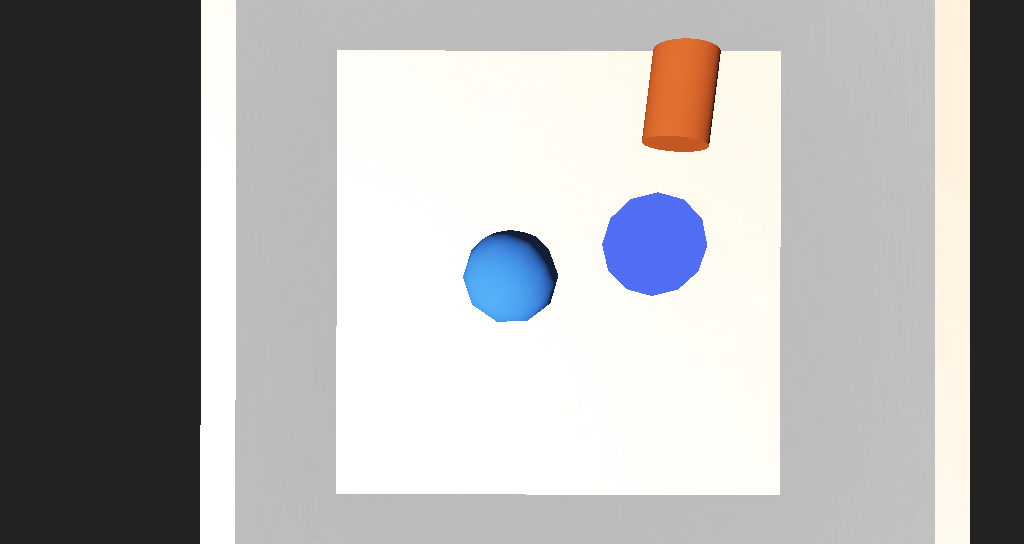cone: (559, 160, 613, 212)
cylinder: (525, 227, 593, 279)
sphere: (438, 251, 505, 293)
